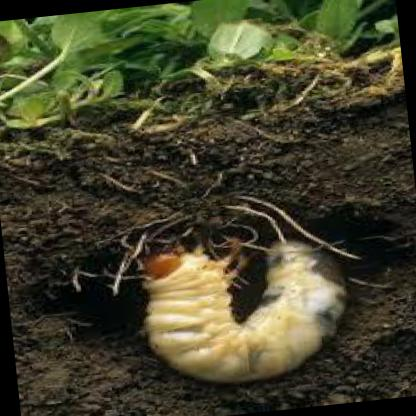root grubs: (137, 243, 348, 382)
